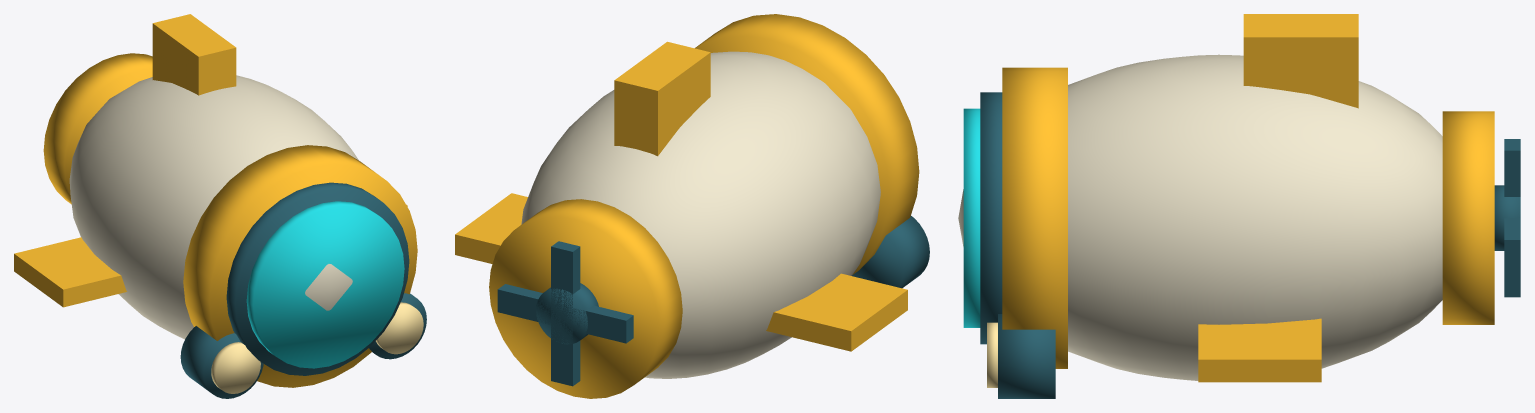
File: submarine.glb
The picture shows the model from 3 angles, left to right: view 1: azimuth 30°, elevation 25°; view 2: azimuth 150°, elevation 25°; view 3: azimuth 270°, elevation 25°; orthographic projection. The views are drawn at different scales.
Visible parts, largest first — view 1: Submarine hull, Cyan window, Nose rim, Window frame, Rear propeller shroud, Top fin, Side fin, Lamp housing, Lamp lens, Lamp lens.001, Lamp housing.001; view 2: Submarine hull, Rear propeller shroud, Nose rim, Top fin, Side fin, Propeller blade.001, Propeller blade, Lamp housing, Side fin.001, Propeller hub; view 3: Submarine hull, Nose rim, Rear propeller shroud, Top fin, Side fin.001, Window frame, Lamp housing.001, Cyan window, Propeller blade.001, Propeller hub, Propeller blade, Lamp lens.001.
Boxes of the visible parts, bbox=[...] form: Submarine hull: bbox=[69, 75, 358, 339]; Cyan window: bbox=[246, 201, 404, 368]; Nose rim: bbox=[183, 145, 417, 387]; Window frame: bbox=[226, 182, 409, 375]; Rear propeller shroud: bbox=[43, 53, 152, 204]; Top fin: bbox=[152, 14, 236, 95]; Side fin: bbox=[14, 237, 126, 307]; Lamp housing: bbox=[180, 326, 263, 398]; Lamp lens: bbox=[211, 342, 260, 393]; Lamp lens.001: bbox=[376, 302, 423, 354]; Lamp housing.001: bbox=[369, 293, 426, 359]; Submarine hull: bbox=[521, 51, 880, 378]; Rear propeller shroud: bbox=[489, 199, 682, 398]; Nose rim: bbox=[695, 14, 919, 274]; Top fin: bbox=[614, 41, 710, 156]; Side fin: bbox=[766, 273, 907, 351]; Propeller blade.001: bbox=[551, 241, 580, 386]; Propeller blade: bbox=[497, 284, 633, 343]; Lamp housing: bbox=[852, 216, 929, 288]; Side fin.001: bbox=[455, 193, 527, 263]; Propeller hub: bbox=[536, 283, 598, 344]; Submarine hull: bbox=[958, 54, 1442, 380]; Nose rim: bbox=[1002, 67, 1067, 368]; Rear propeller shroud: bbox=[1442, 111, 1494, 324]; Top fin: bbox=[1243, 14, 1358, 108]; Side fin.001: bbox=[1198, 318, 1321, 382]; Window frame: bbox=[980, 92, 1002, 344]; Lamp housing.001: bbox=[998, 314, 1055, 398]; Cyan window: bbox=[963, 108, 980, 327]; Propeller blade.001: bbox=[1504, 139, 1520, 297]; Propeller hub: bbox=[1494, 185, 1520, 250]; Propeller blade: bbox=[1504, 218, 1520, 264]; Lamp lens.001: bbox=[987, 322, 997, 387].
Size of the model in its own units: 1.82 by 1.36 by 2.05.
